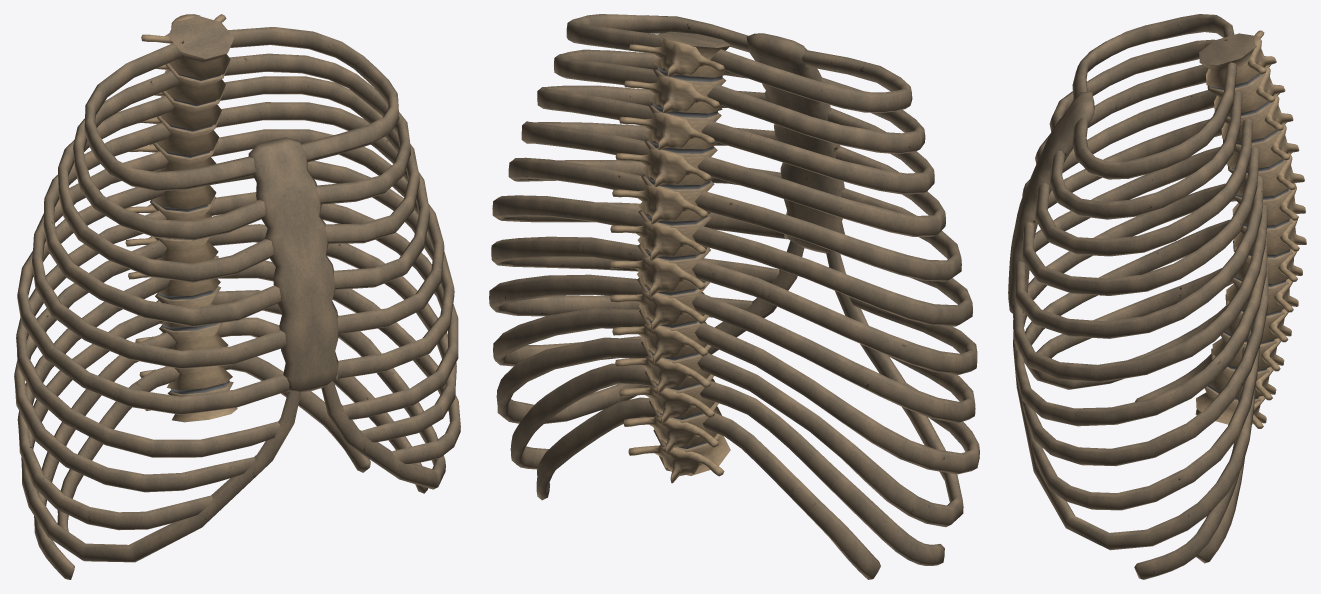
3 renders of one model, left to right at view 1: azimuth 30°, elevation 25°; view 2: azimuth 150°, elevation 25°; view 3: azimuth 270°, elevation 25°, orthographic. The views are drawn at different scales.
Parts seen in each view (by area): view 1: ribs; view 2: ribs; view 3: ribs.
Part boxes in pixels (x1,y1,x2,y2): ribs: [14, 14, 460, 579]; ribs: [489, 14, 979, 579]; ribs: [1008, 14, 1306, 579].
Size of the model in its own units: 7.97 by 8.81 by 5.22.
1 material, 1 textured.
